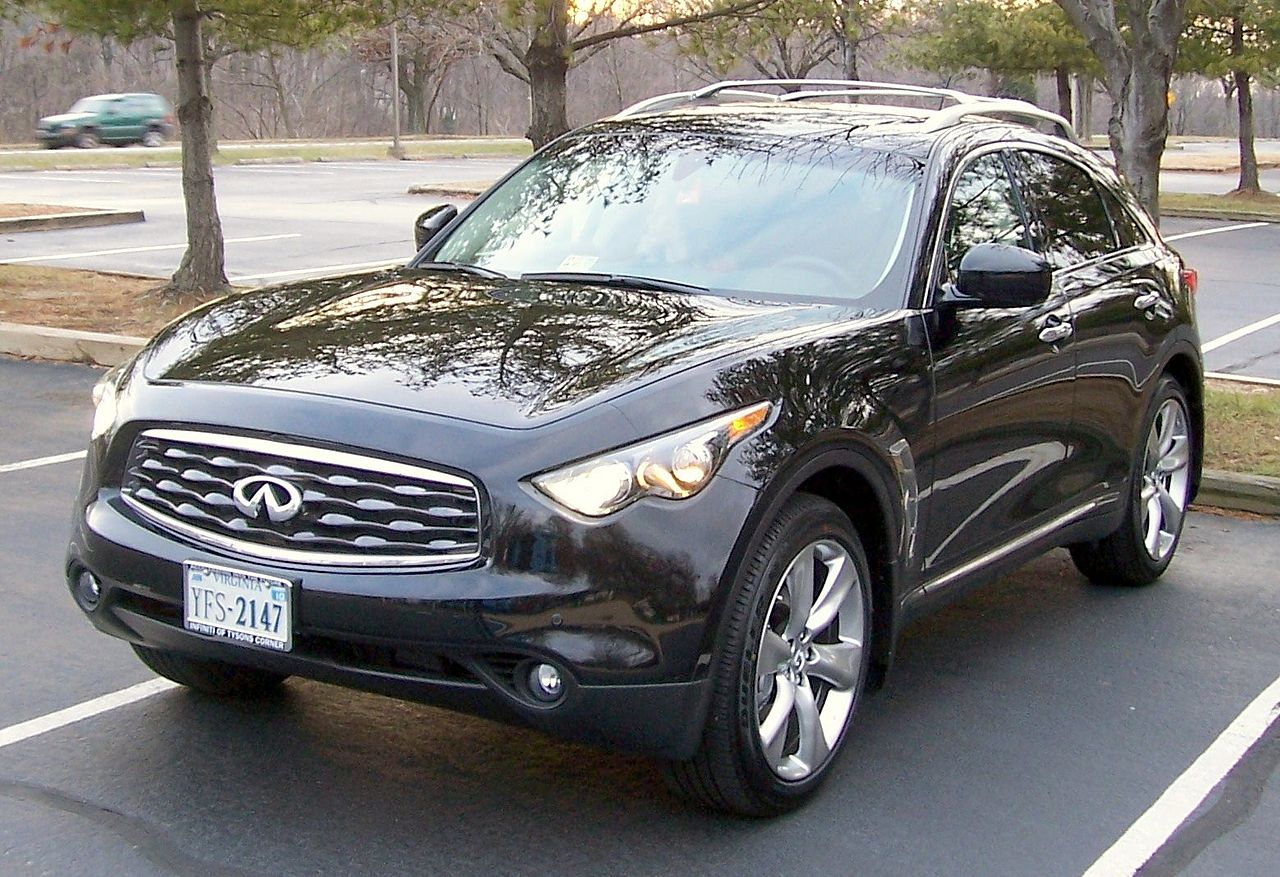plate: (180, 557, 296, 656)
